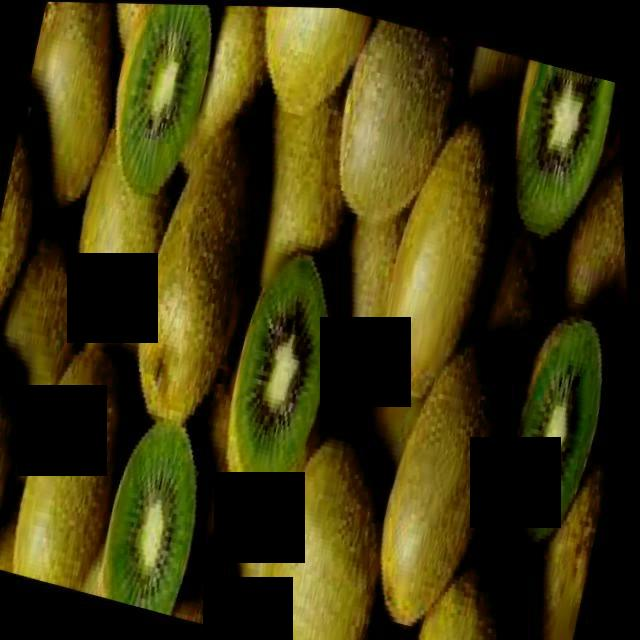kiwi: (104, 116, 288, 438), (367, 109, 525, 399), (308, 21, 480, 253), (1, 353, 158, 596), (247, 438, 408, 640), (393, 335, 477, 635), (1, 348, 44, 565)
